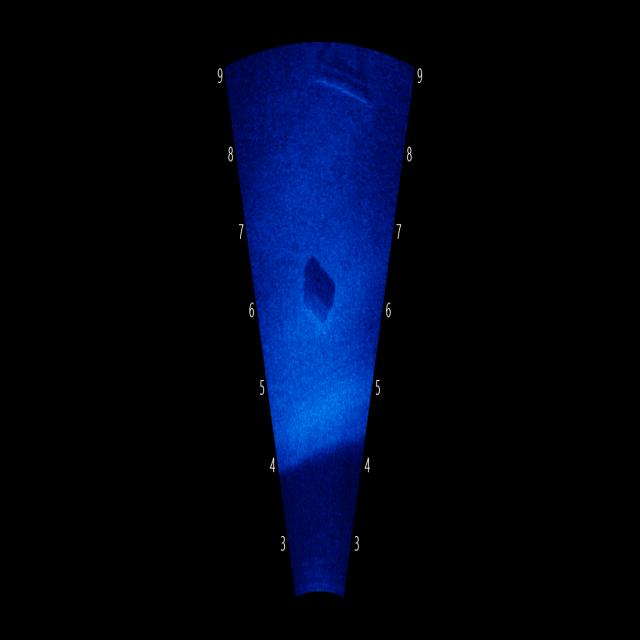square: (302, 275, 336, 332)
